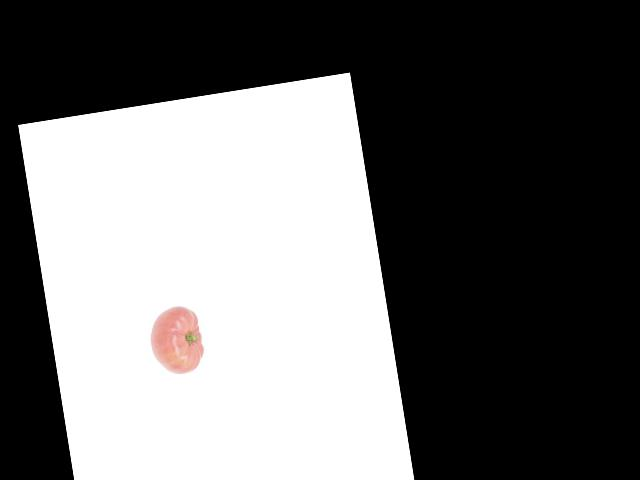tomato: (146, 304, 205, 378)
